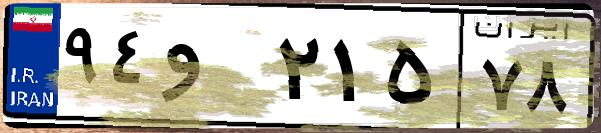1: (330, 28, 385, 110)
2: (270, 28, 330, 110)
4: (110, 28, 158, 98)
5: (385, 28, 445, 110)
7: (475, 38, 525, 113)
8: (525, 38, 570, 115)
9: (57, 26, 110, 100)
و: (158, 20, 270, 120)
